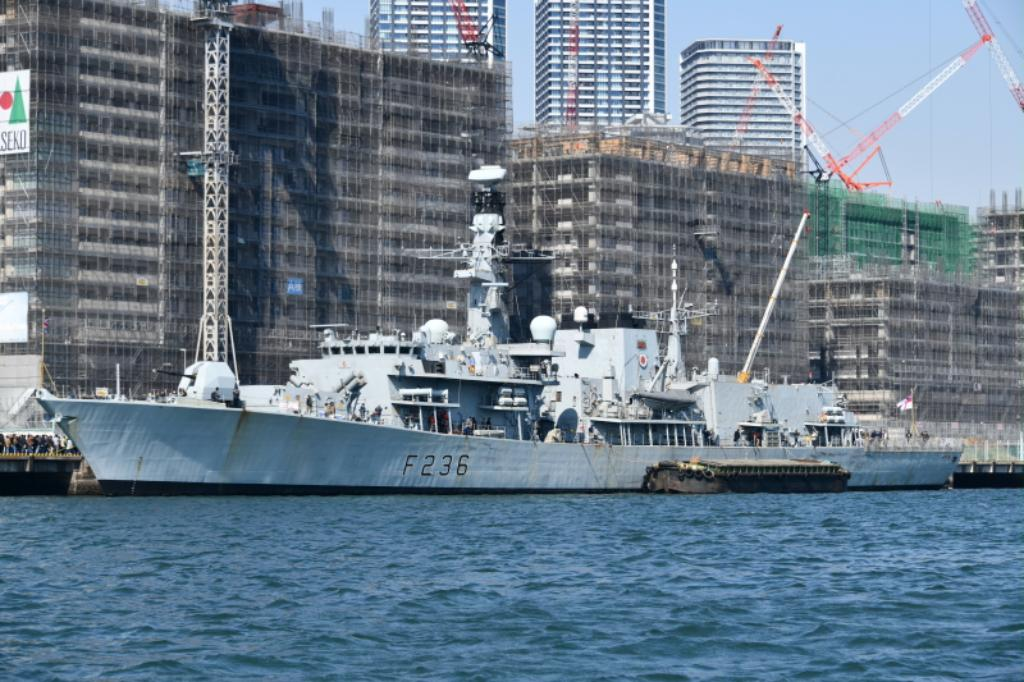Warship: (34, 163, 966, 491)
